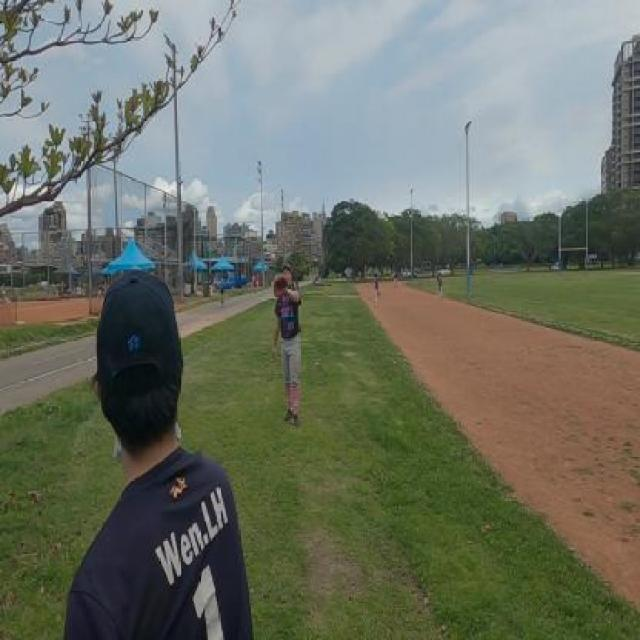baseball: (270, 252, 276, 262)
